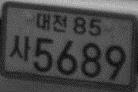5: (32, 36, 54, 72), (88, 18, 102, 37)
6: (55, 38, 78, 75)
8: (81, 41, 102, 78), (72, 15, 87, 36)
9: (104, 43, 127, 81)
대전_H: (35, 12, 68, 33)
사: (9, 32, 32, 62)
